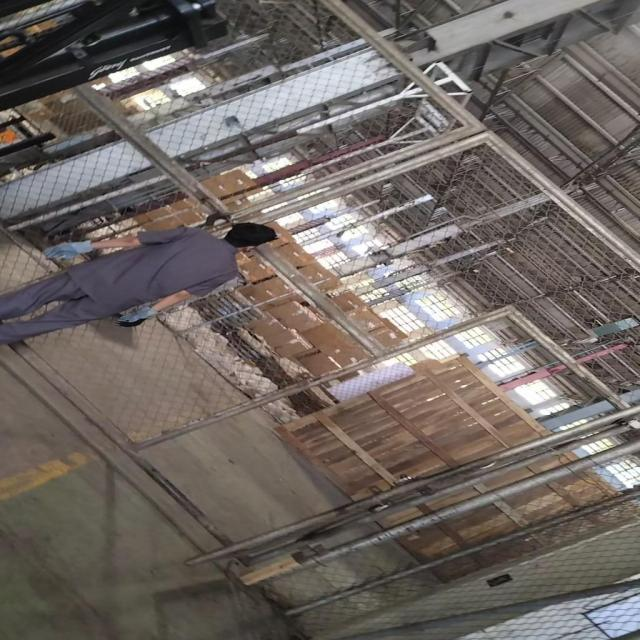Gloves-Detection: (43, 237, 92, 265), (115, 304, 158, 328)
